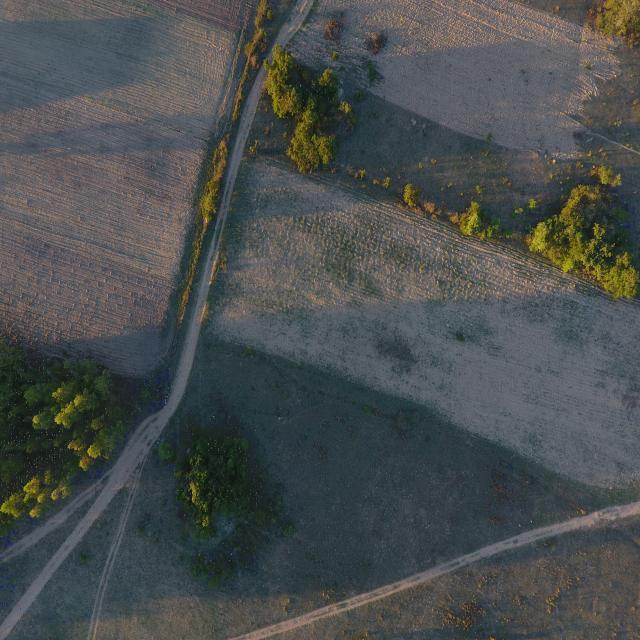boundaries: (150, 15, 290, 325), (352, 153, 539, 275)
